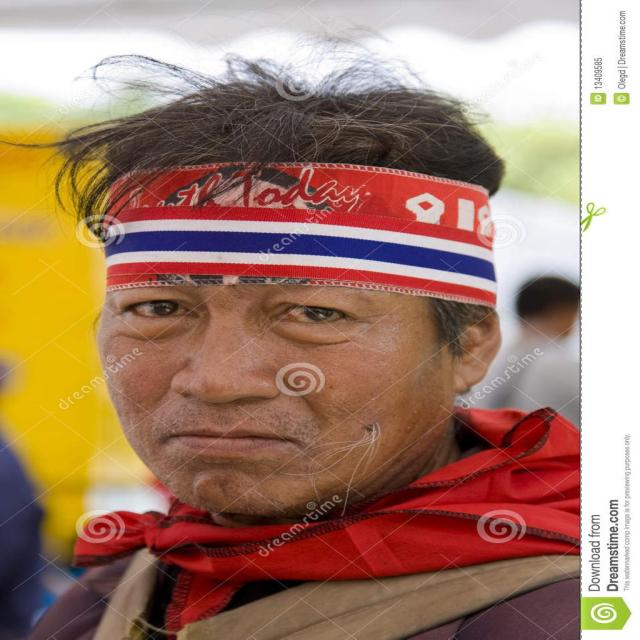Face: (98, 152, 471, 521)
